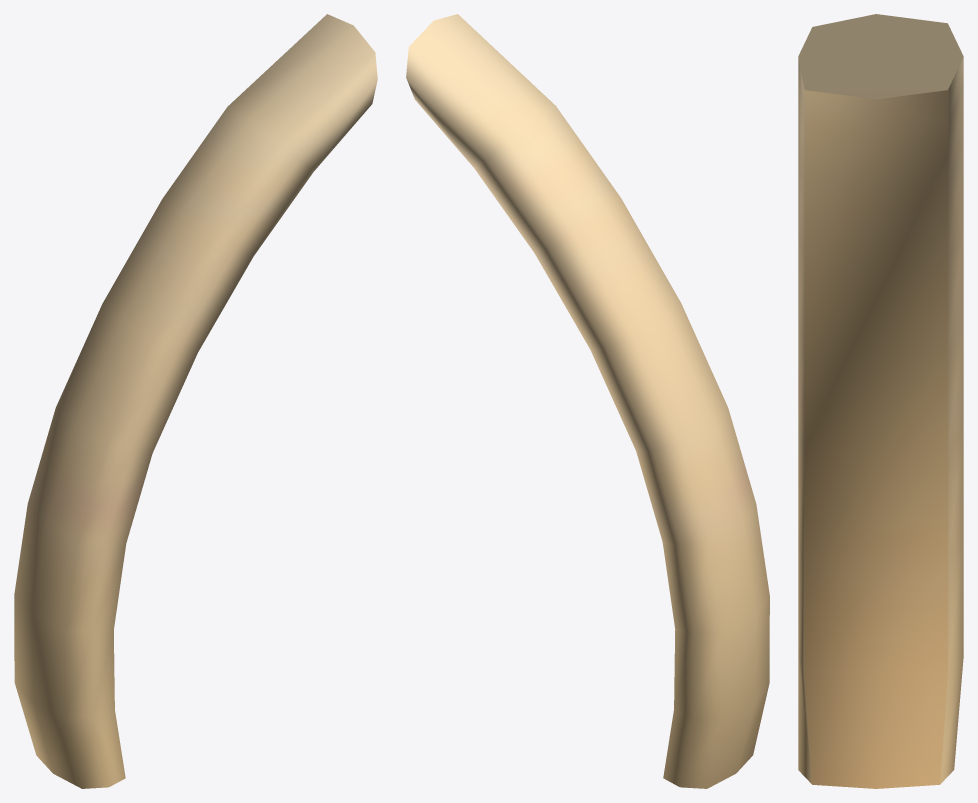
Rendered from Rib2.fbx.
The picture shows the model from 3 angles, left to right: view 1: azimuth 30°, elevation 25°; view 2: azimuth 150°, elevation 25°; view 3: azimuth 270°, elevation 25°; orthographic projection. The views are drawn at different scales.
Parts seen in each view (by area): view 1: pCube1; view 2: pCube1; view 3: pCube1.
Part boxes in pixels (x1,y1,x2,y2): pCube1: (14, 14, 377, 788); pCube1: (406, 14, 769, 788); pCube1: (798, 14, 963, 788).
Bounding box in the file's own units: 5.01 × 10.08 × 1.61.
